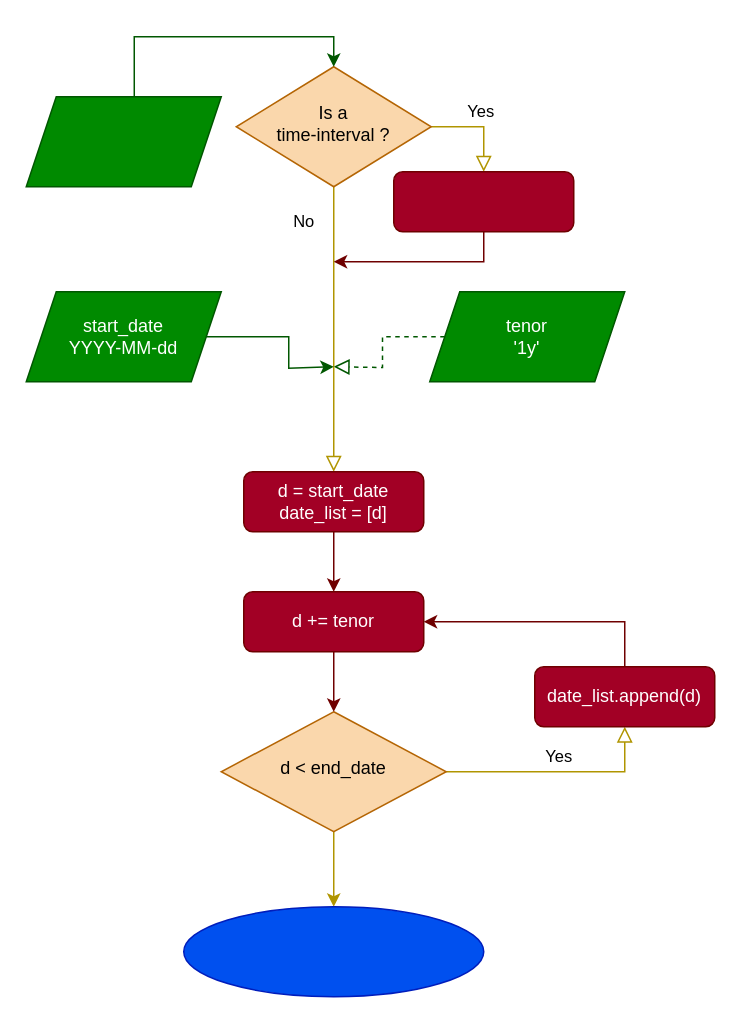
The diagram is 741 pixels wide and 1023 high, and some of its shapes have lost their labels. The shapes that lost their labels are listed below. From the top down, each one's centre as x and y in pixels, then its label:
pixel 123 141: end_date YYYY-MM-dd
pixel 483 201: Convert to date
pixel 333 951: date_list.append(end_date)
